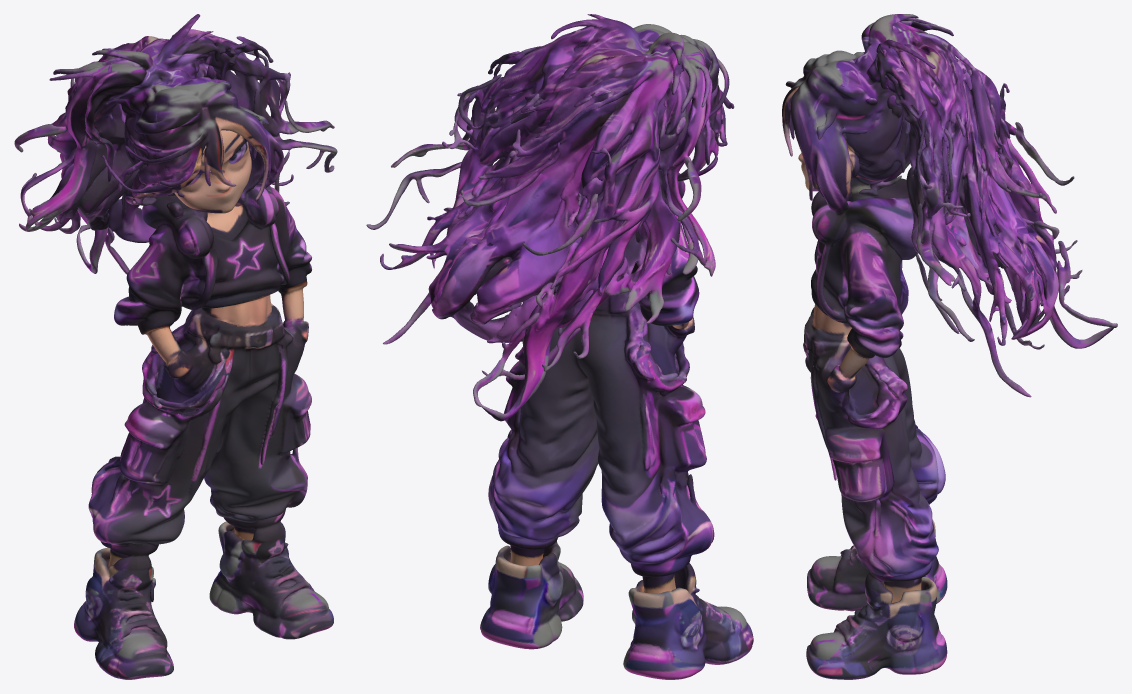
Rendered from human-girl.glb.
3 renders of one model, left to right at view 1: azimuth 30°, elevation 25°; view 2: azimuth 150°, elevation 25°; view 3: azimuth 270°, elevation 25°, orthographic. The views are drawn at different scales.
Visible parts, largest first — view 1: tripo_node_dc86c1c9-b978-4018-a49d-6ce06aa2f734; view 2: tripo_node_dc86c1c9-b978-4018-a49d-6ce06aa2f734; view 3: tripo_node_dc86c1c9-b978-4018-a49d-6ce06aa2f734.
Boxes of the visible parts, box(x1,y1,x2,y2) form: tripo_node_dc86c1c9-b978-4018-a49d-6ce06aa2f734: box(14, 14, 337, 679); tripo_node_dc86c1c9-b978-4018-a49d-6ce06aa2f734: box(366, 14, 753, 679); tripo_node_dc86c1c9-b978-4018-a49d-6ce06aa2f734: box(782, 14, 1117, 679).
Bounding box in the file's own units: 0.5505 × 1 × 0.5132.
1 material, 1 textured.
